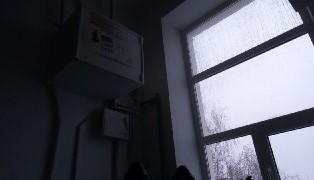shta-9m: (56, 5, 147, 103)
